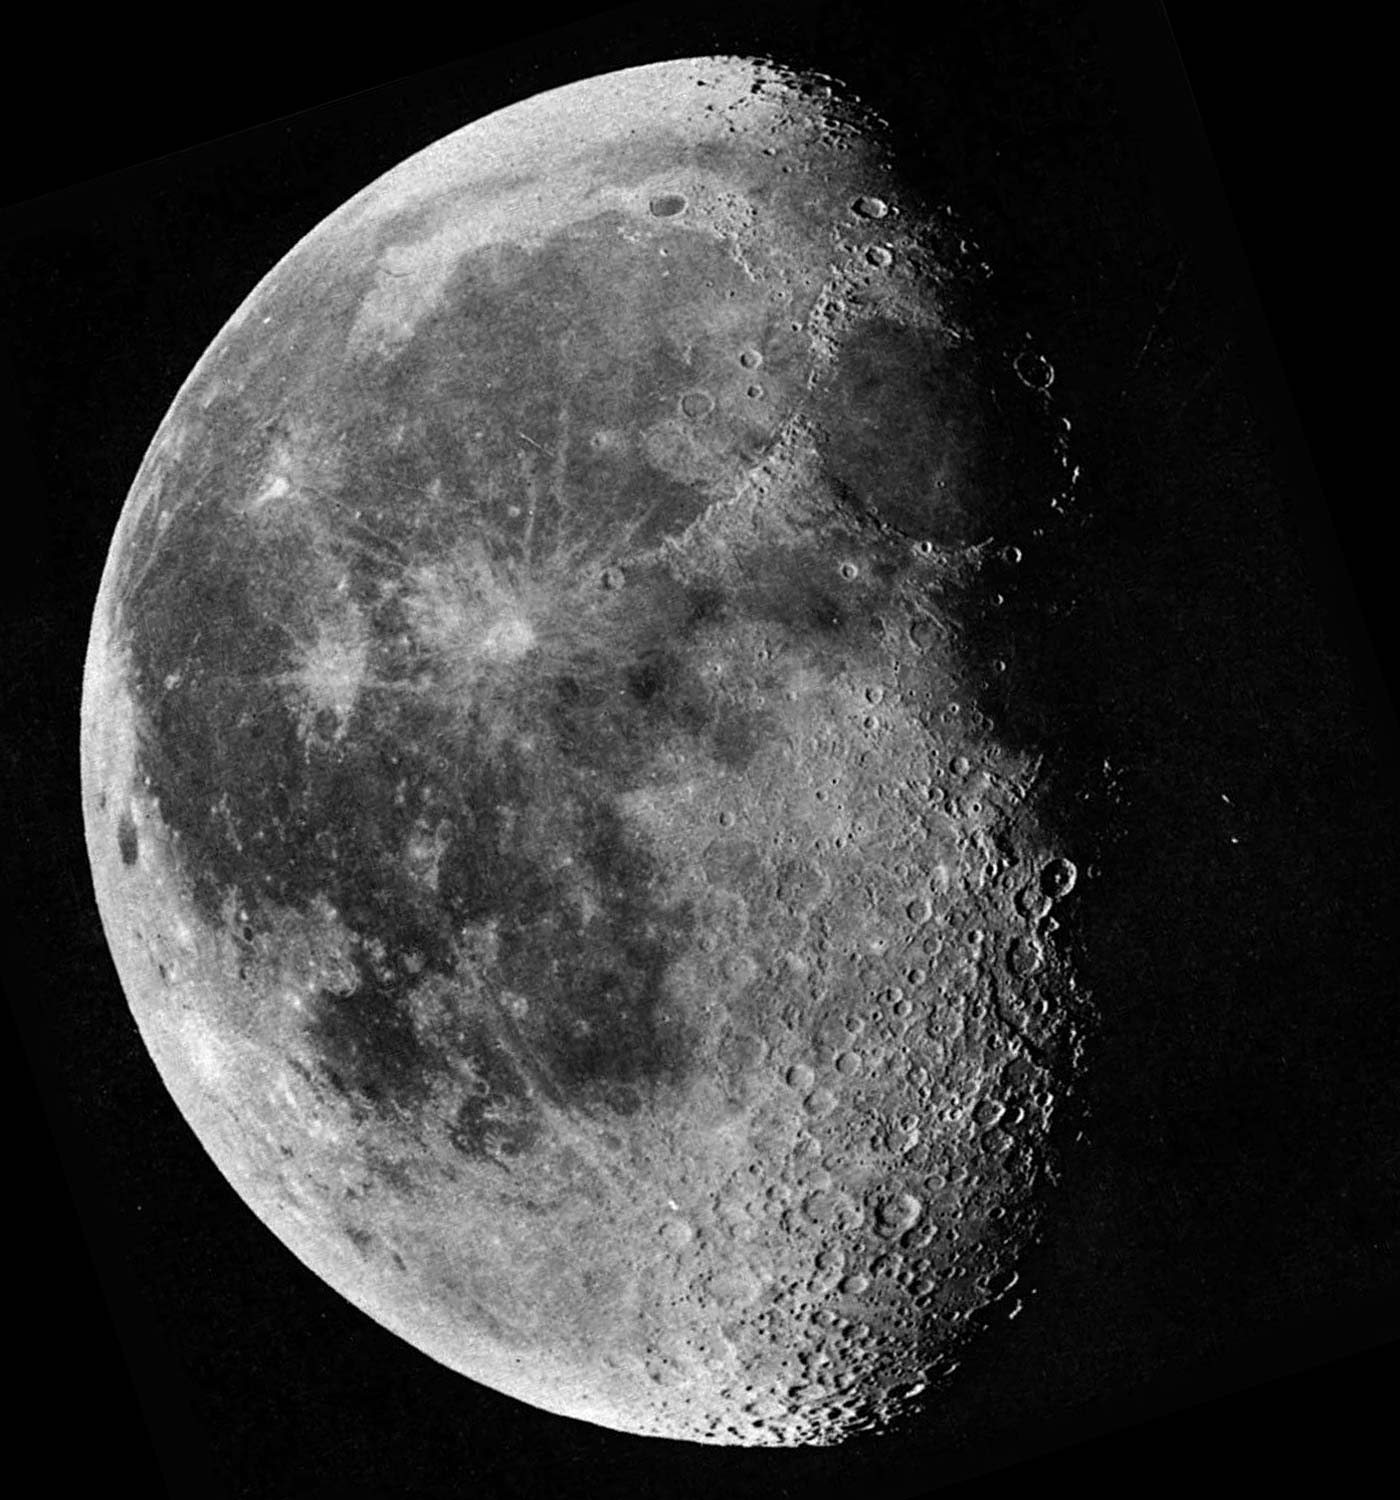crater: (271, 564, 397, 747), (446, 550, 571, 716), (996, 322, 1074, 416), (245, 439, 320, 532), (763, 853, 842, 932), (657, 374, 742, 441), (1030, 830, 1084, 916), (108, 797, 159, 884), (636, 180, 712, 224), (836, 180, 899, 232), (642, 1197, 700, 1253), (703, 786, 753, 843), (722, 332, 778, 382), (803, 782, 836, 814)
